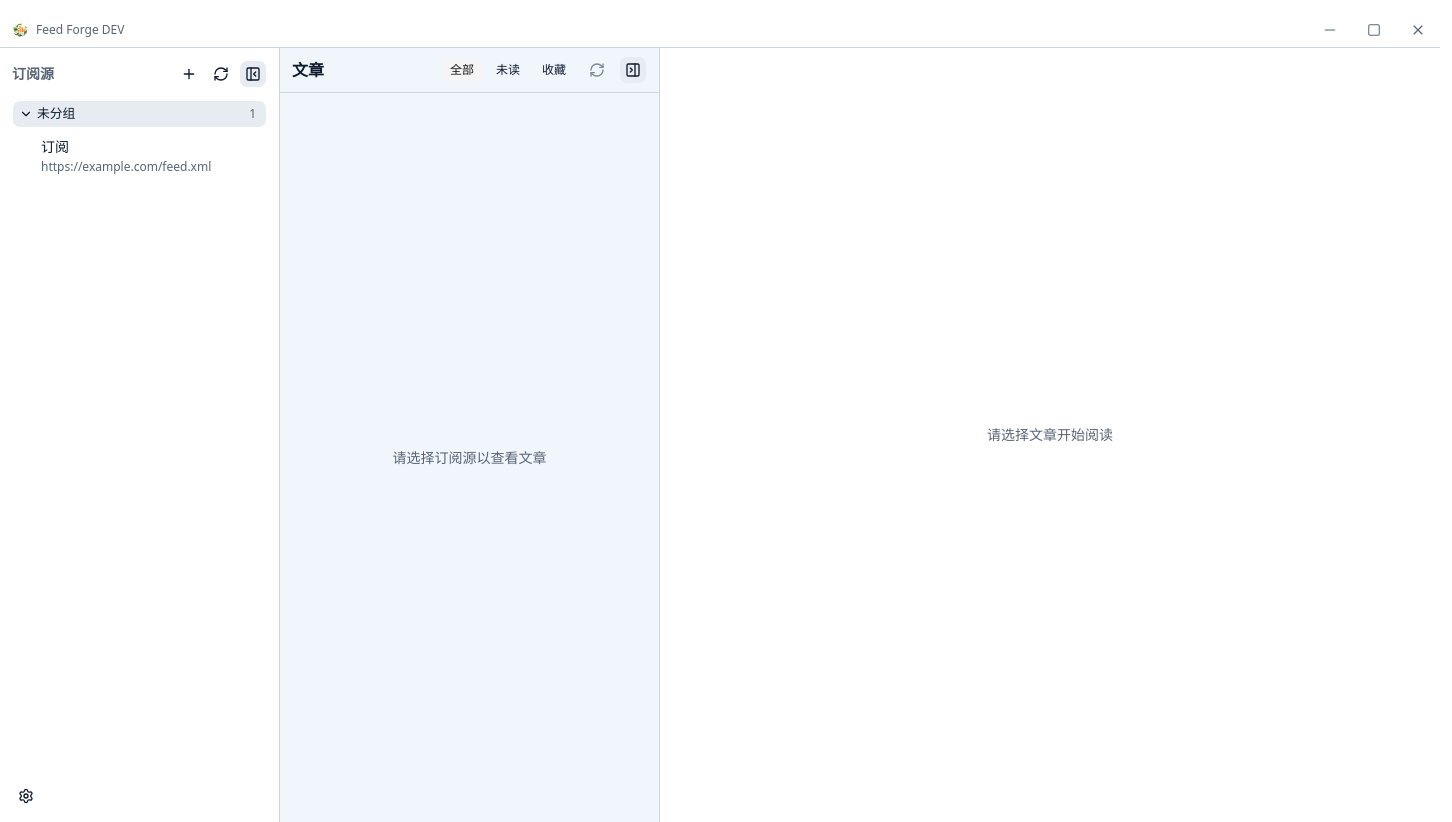
Test: an auto-read failure is not shown after selecting another article
The image size is (1452, 822).
Click the list item named "订阅https".
click(148, 156)  # box 28,128 -> 267,184
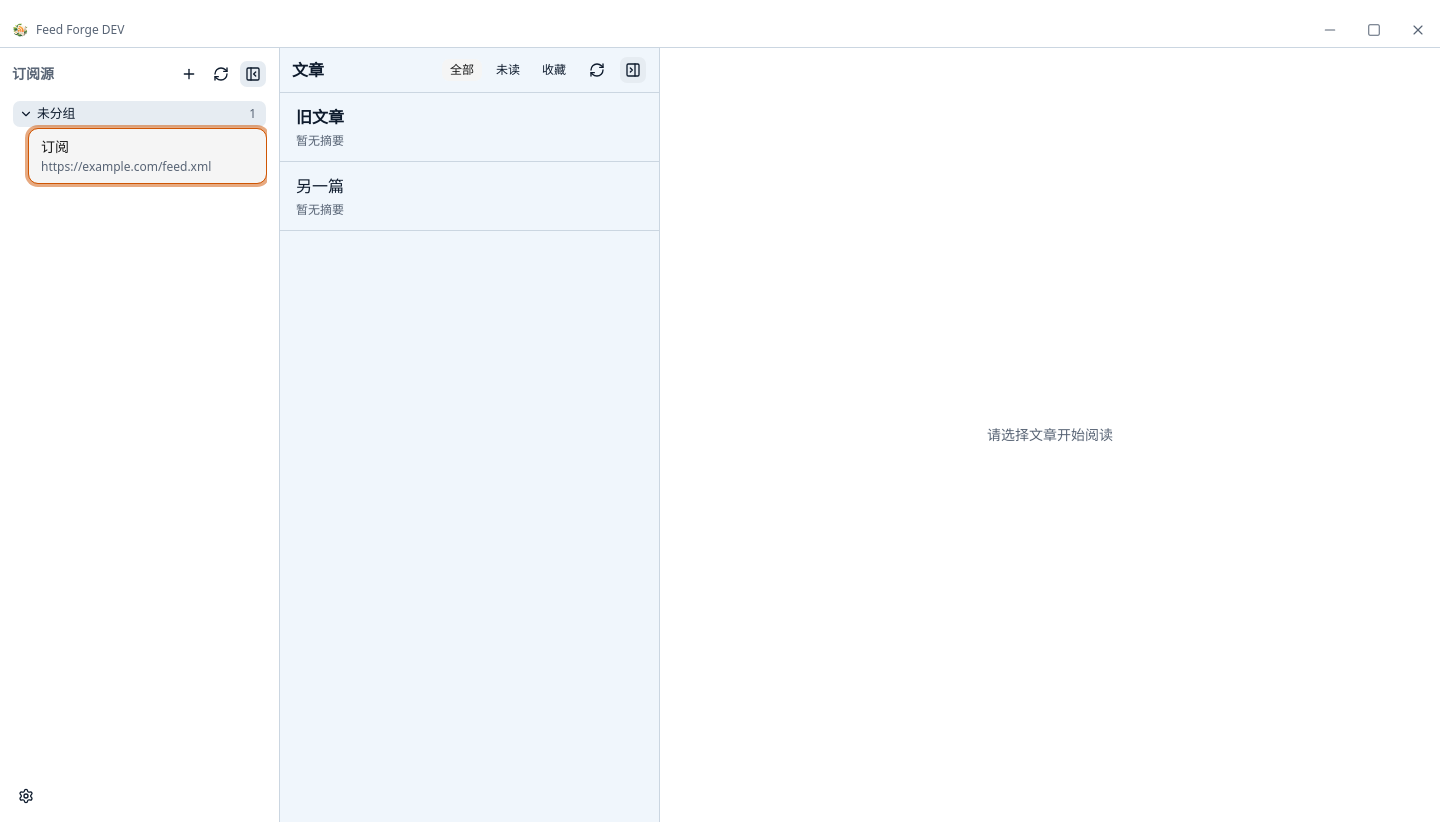
Click the button "旧文章 暂无摘要".
click(320, 117)  # box 280,93 -> 659,161
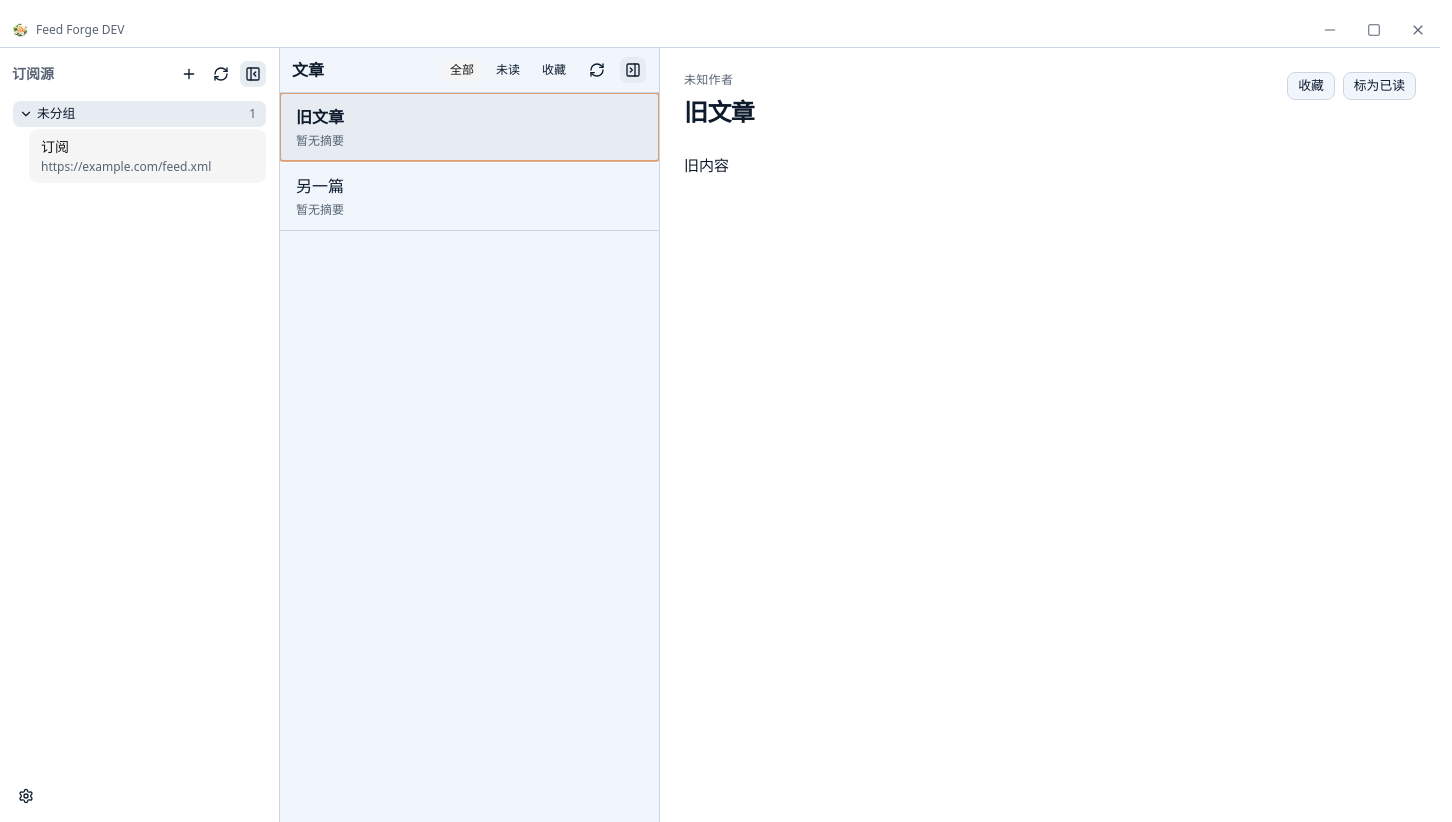
Click the button "另一篇 暂无摘要".
click(320, 186)  # box 280,162 -> 659,230
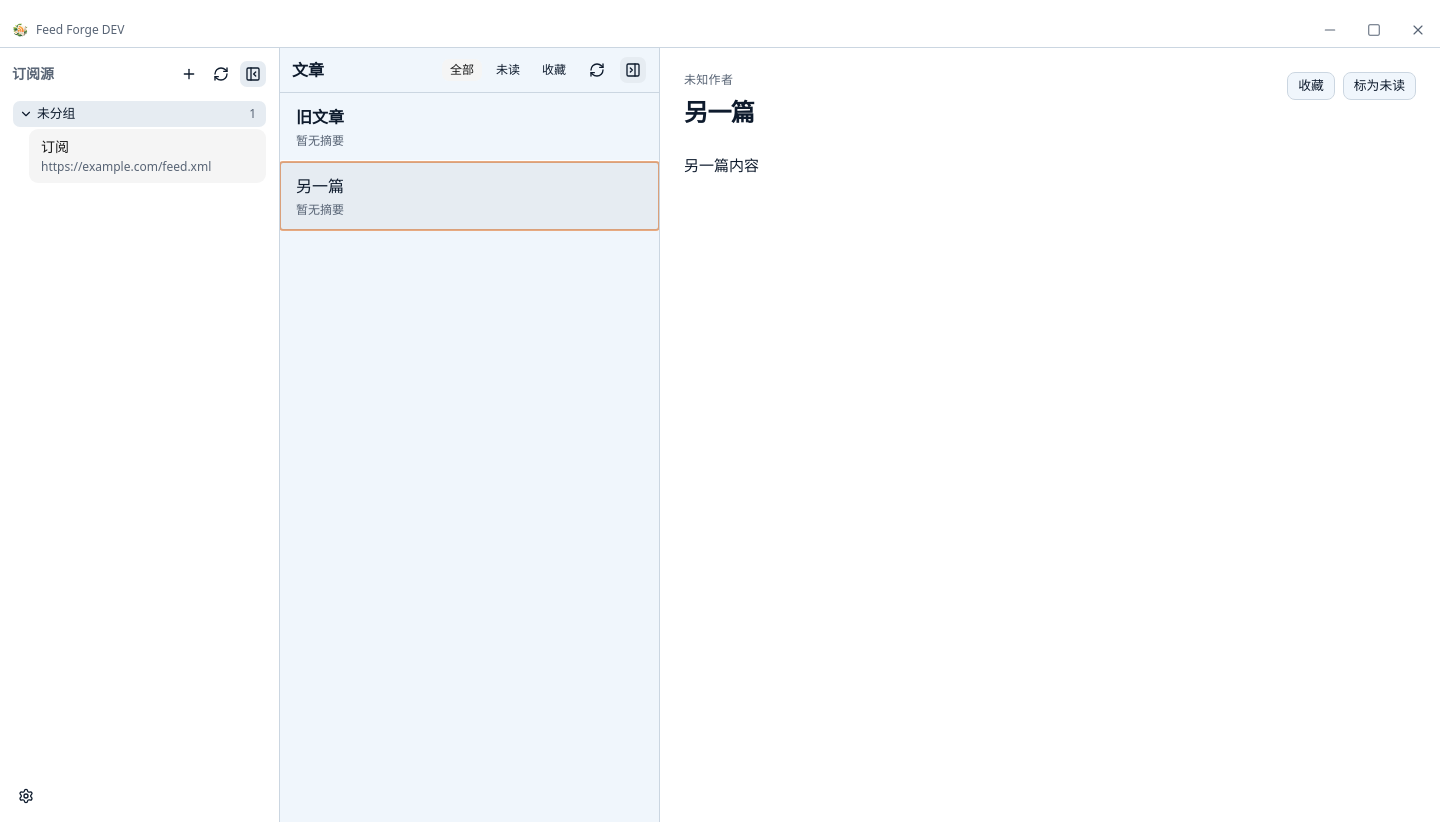
Check: the element showing "未知作者 另一篇 收藏 标为未读 另一篇内容" is shown, box 684,71 -> 1416,175
